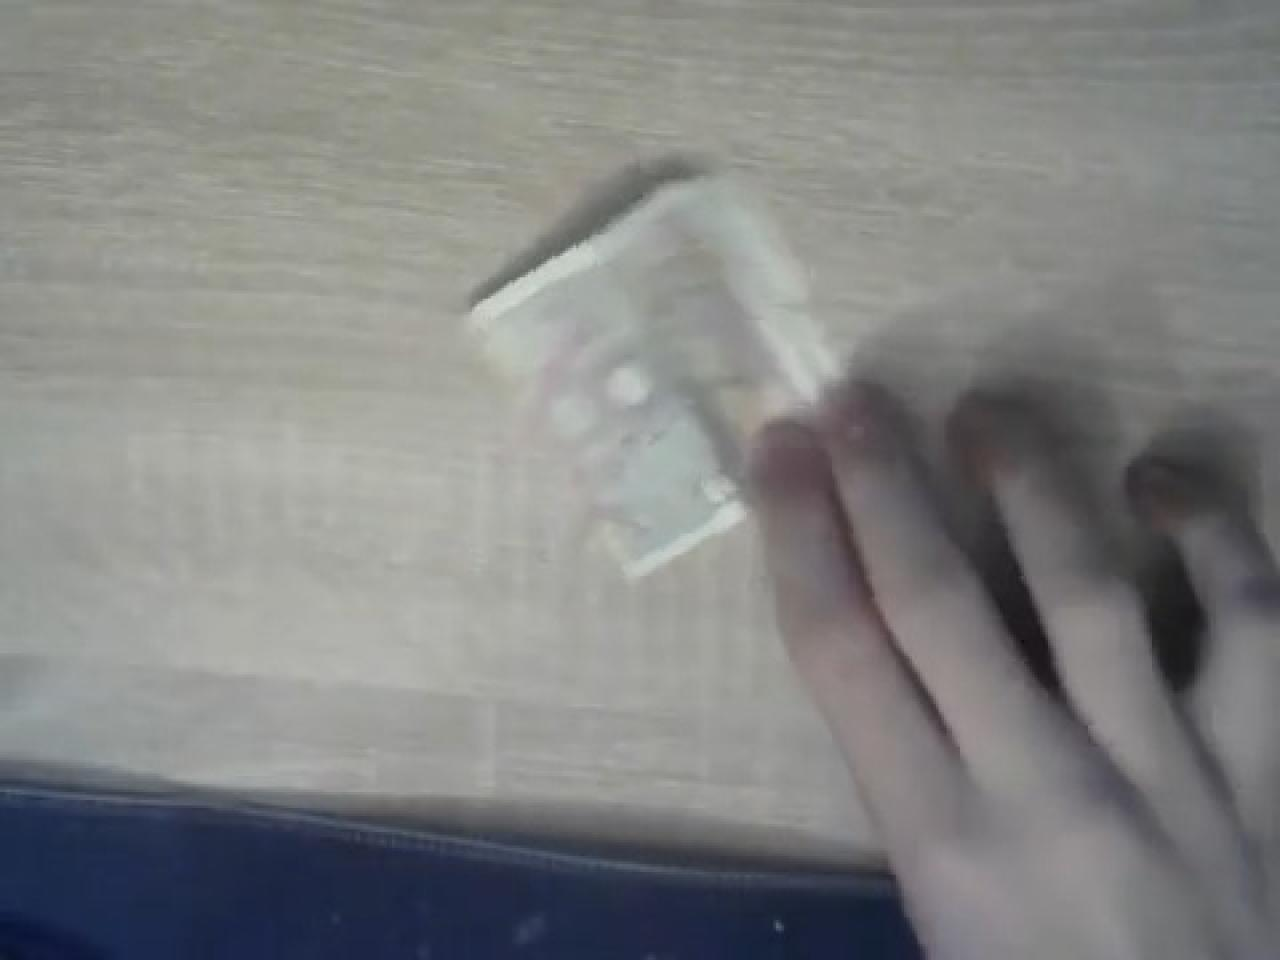10leva: (465, 168, 851, 587)
